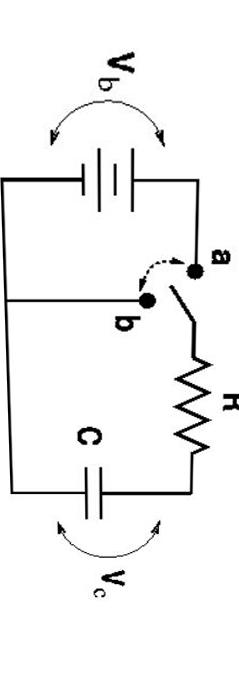resistor: (169, 346, 212, 468)
